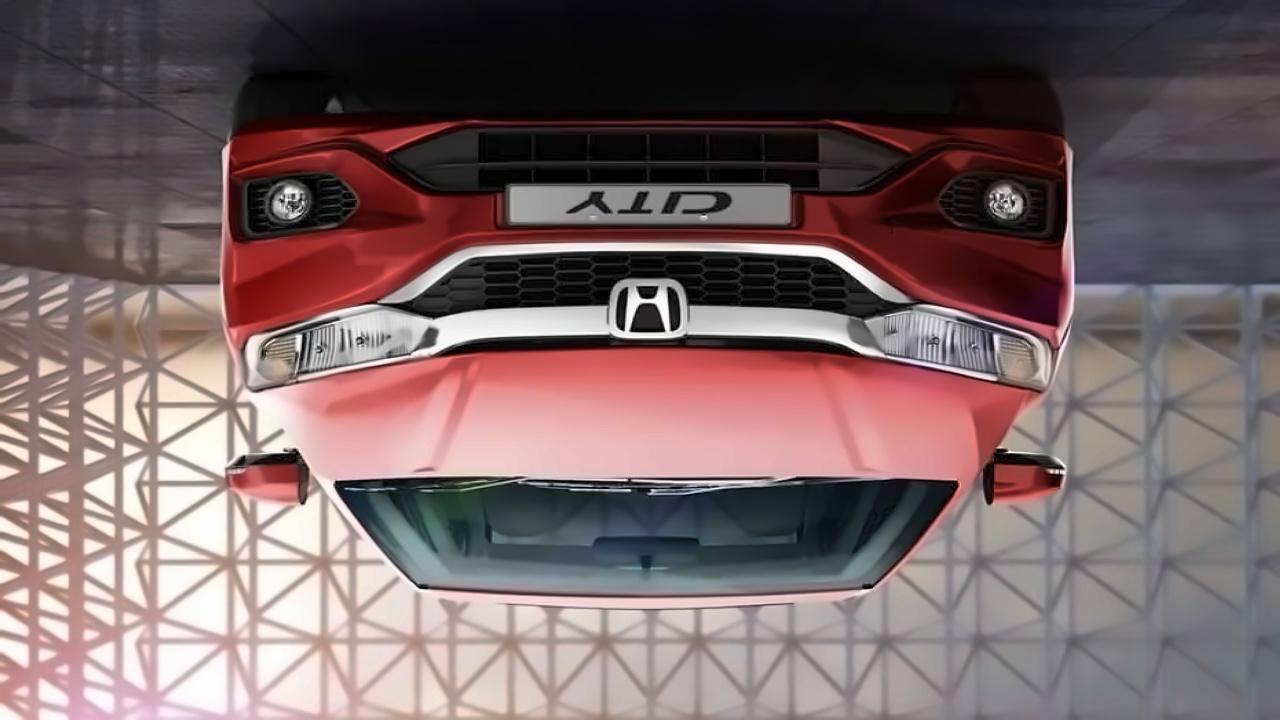Car hood: (252, 342, 1046, 480)
Front bumper: (214, 106, 1085, 346)
Headlight - -L-: (232, 297, 442, 398)
Headlight - -R-: (858, 292, 1059, 399)
Side mirror - -L-: (210, 446, 330, 524)
Side mirror - -R-: (972, 432, 1079, 531)
